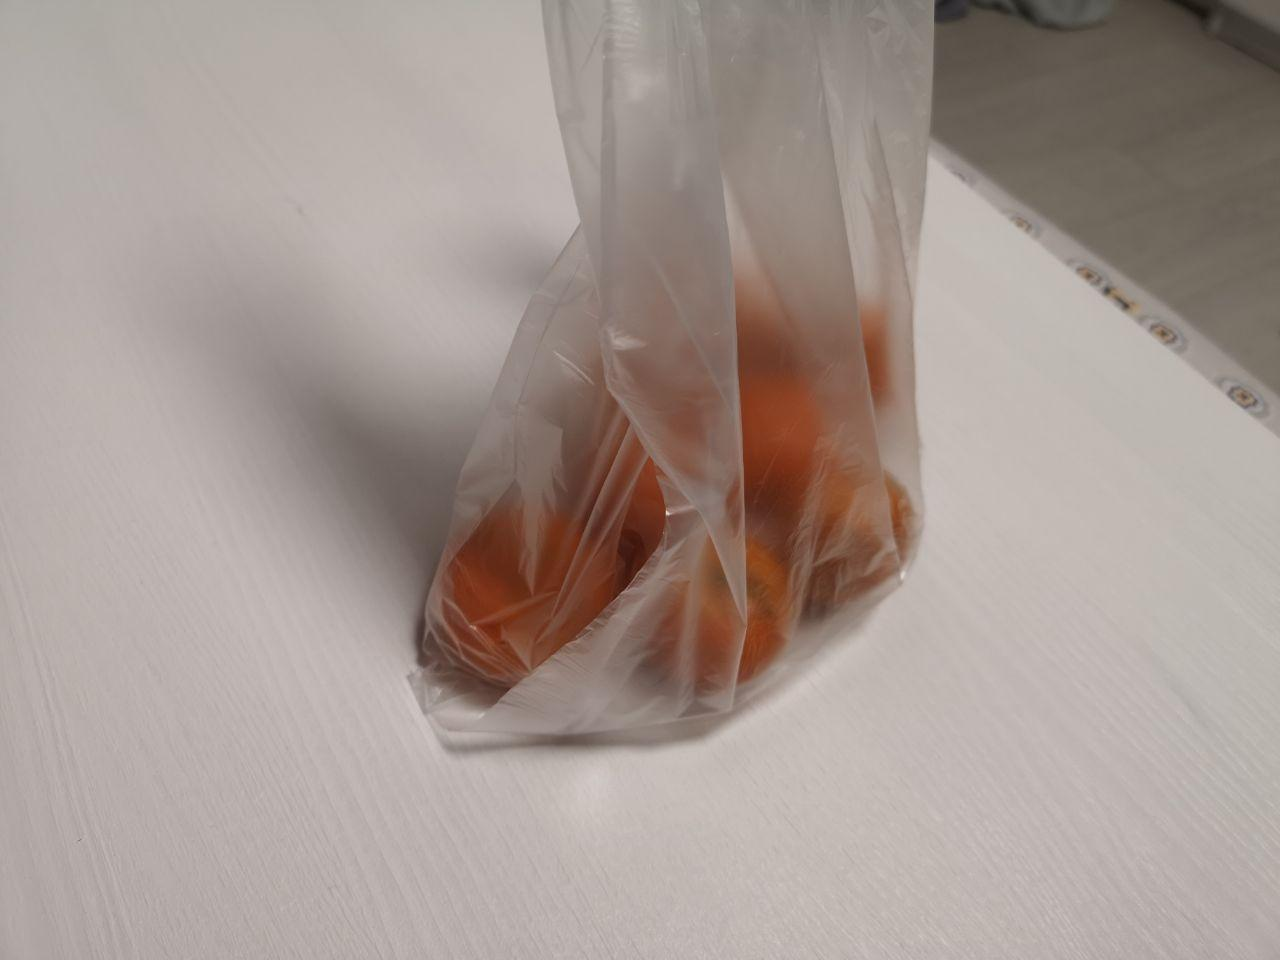clementin: (420, 157, 951, 757)
